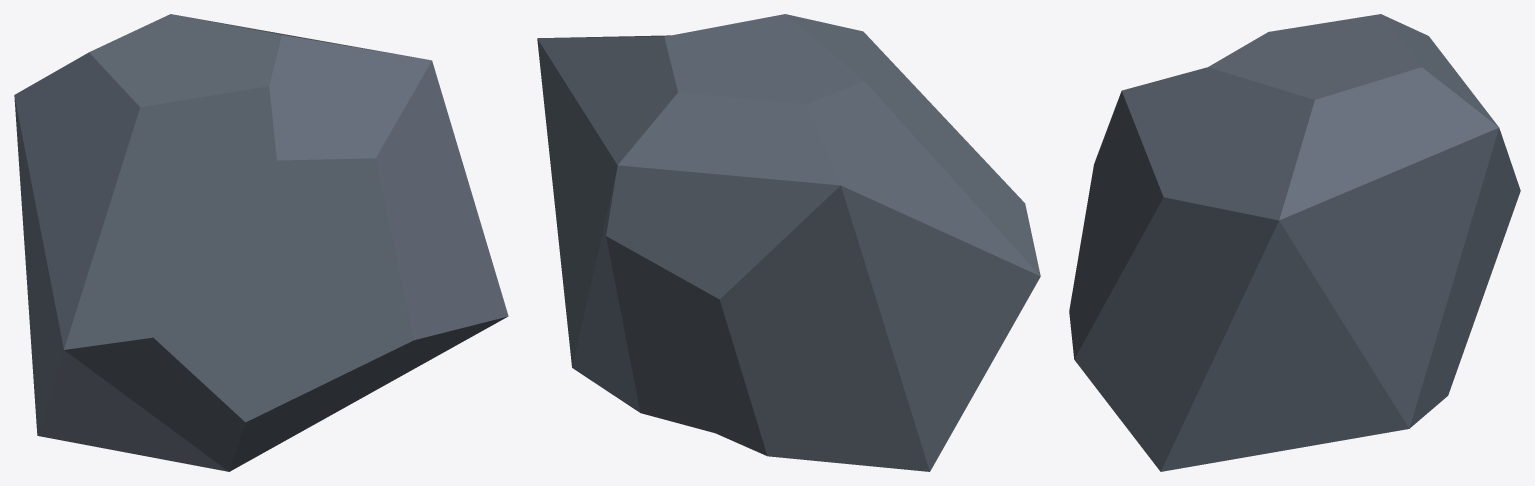
The model's file is RockOne.fbx.
The picture shows the model from 3 angles, left to right: view 1: azimuth 30°, elevation 25°; view 2: azimuth 150°, elevation 25°; view 3: azimuth 270°, elevation 25°; orthographic projection. The views are drawn at different scales.
Parts seen in each view (by area): view 1: Icosphere; view 2: Icosphere; view 3: Icosphere.
Boxes of the visible parts, x1,y1,x2,y2 form: Icosphere: [14, 14, 508, 471]; Icosphere: [537, 14, 1040, 471]; Icosphere: [1069, 14, 1520, 471].
Size of the model in its own units: 253 by 188 by 208.
